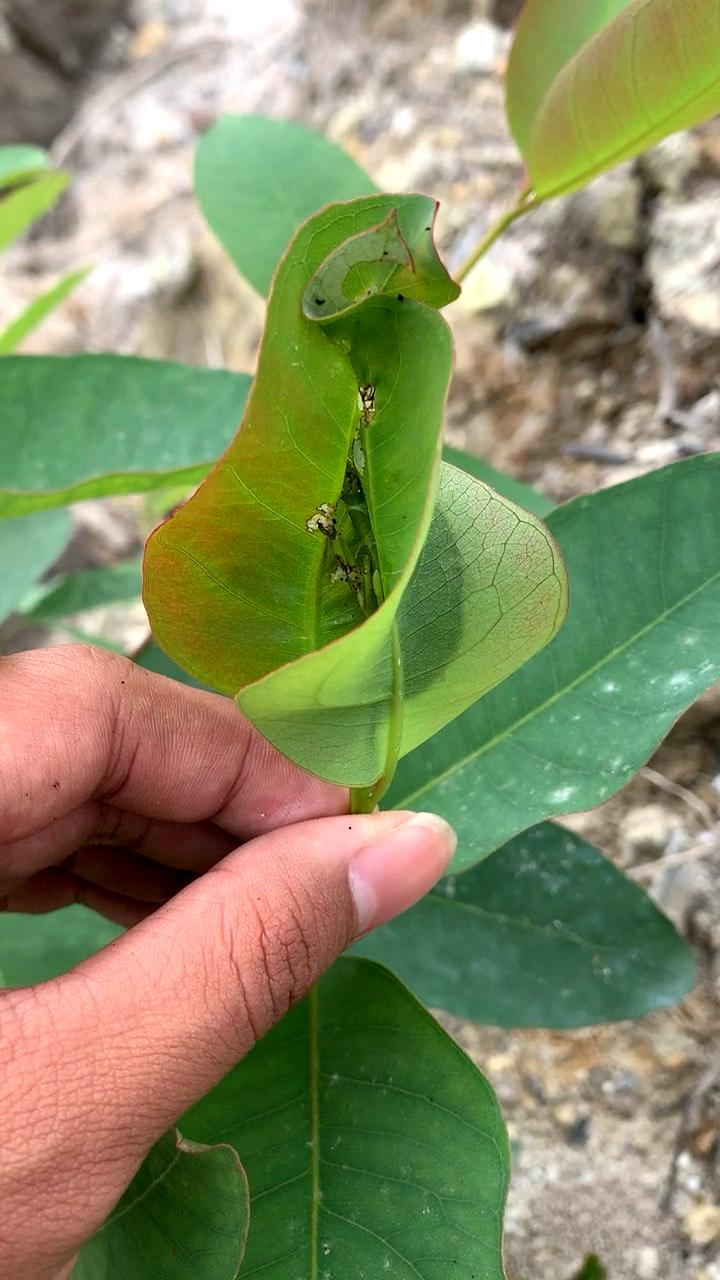Leaf Roller - Leaf: (137, 163, 594, 836)
